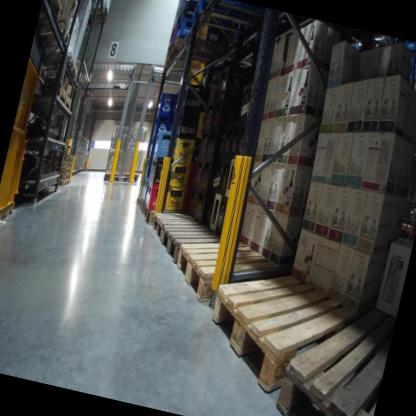pallet: (198, 255, 367, 416), (271, 273, 400, 416), (167, 222, 290, 324), (156, 210, 235, 281), (161, 30, 247, 90), (189, 0, 278, 46), (147, 201, 210, 257), (35, 47, 81, 84), (26, 86, 75, 114), (36, 15, 74, 48), (83, 3, 113, 31), (138, 200, 159, 231), (47, 166, 73, 186), (47, 173, 73, 193), (40, 0, 66, 19), (49, 161, 74, 176), (51, 148, 75, 163), (50, 156, 75, 169), (132, 189, 144, 207), (137, 199, 145, 217)
